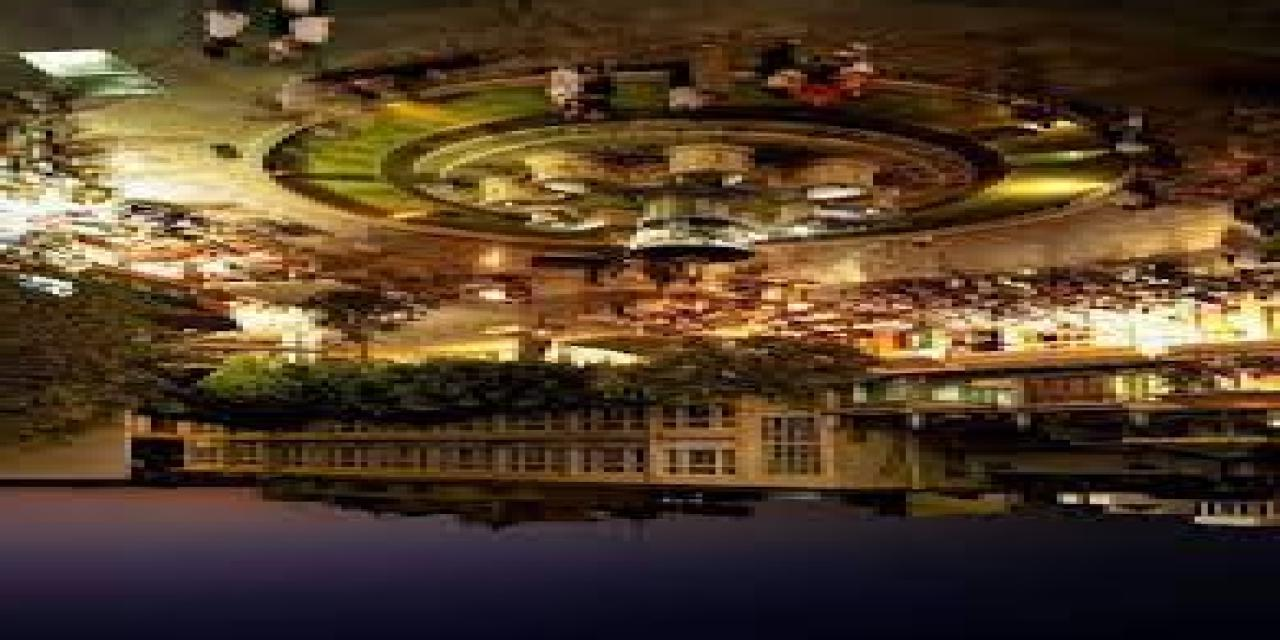Liontaria: (466, 136, 897, 266)
